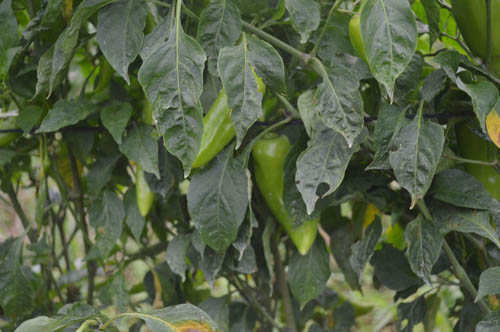ChiliPepper: (188, 75, 264, 178), (252, 134, 317, 254)
